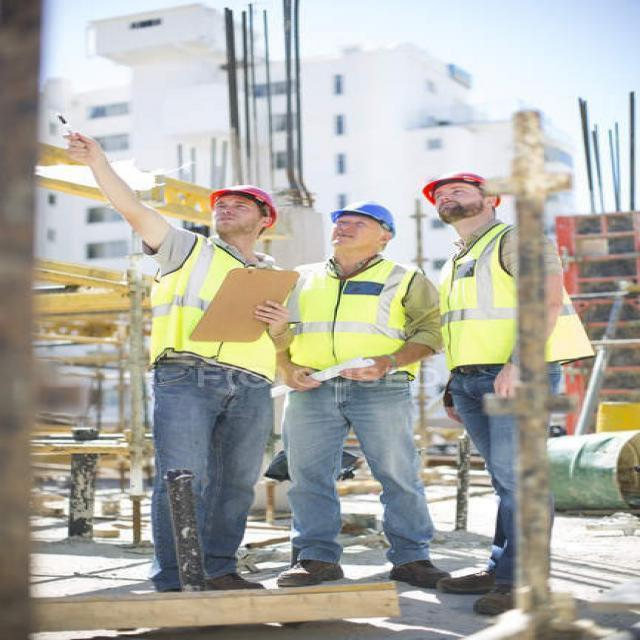boots: (276, 558, 344, 586), (389, 559, 450, 588), (436, 570, 496, 594), (473, 584, 515, 616), (204, 572, 264, 590)
hard-hat: (420, 172, 495, 215), (209, 185, 277, 227), (330, 200, 394, 236)
person: (63, 129, 299, 593), (274, 201, 450, 590), (421, 170, 574, 617)
vest: (435, 233, 573, 378), (136, 226, 272, 373), (281, 261, 425, 383)
